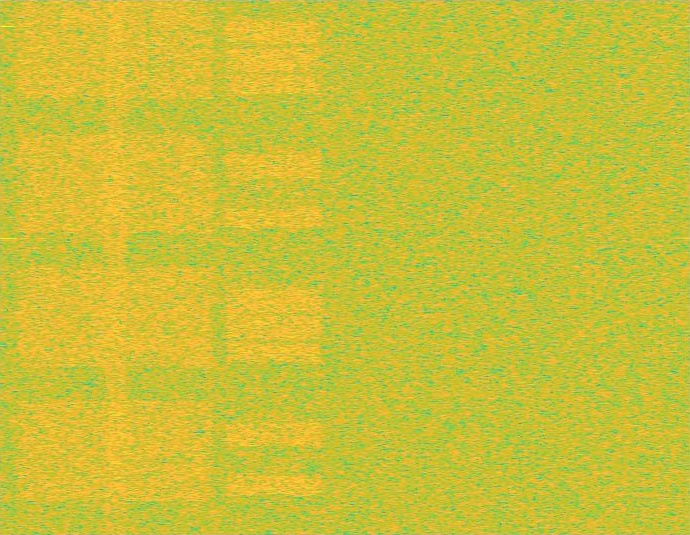5G: (12, 0, 219, 534)
DSSS: (102, 0, 130, 534)
LTE: (222, 0, 325, 534)
Radar: (0, 0, 13, 534)
